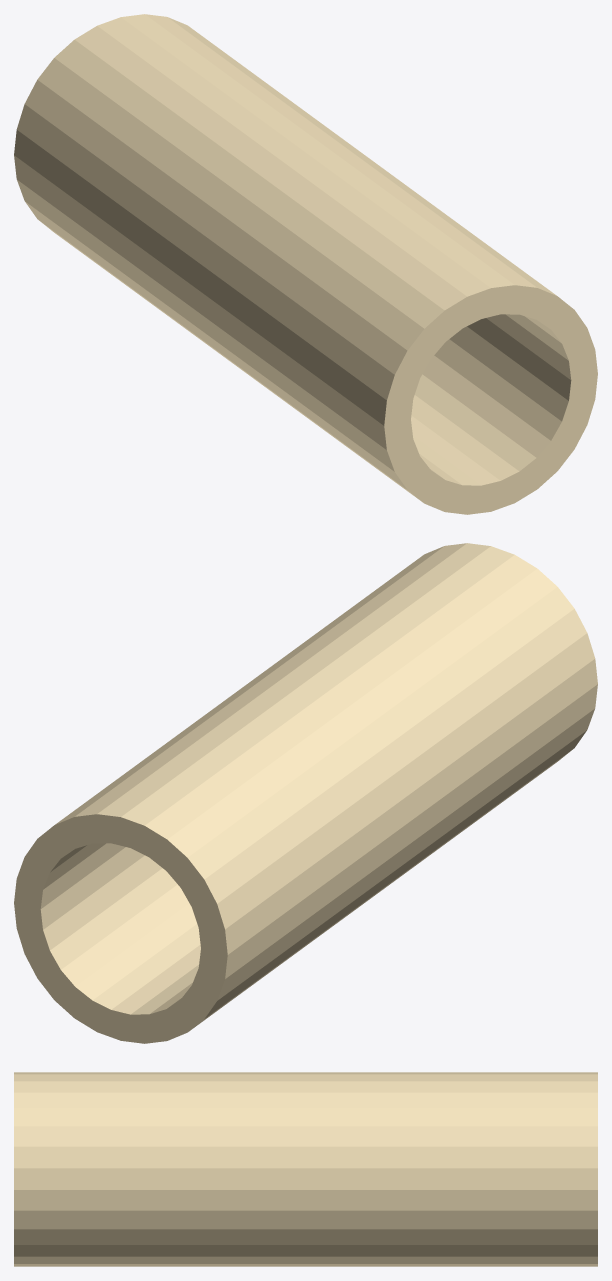
Rendered from caster_axle_bushing.glb.
3 renders of one model, top to bottom at view 1: azimuth 30°, elevation 25°; view 2: azimuth 150°, elevation 25°; view 3: azimuth 270°, elevation 25°, orthographic. The views are drawn at different scales.
Visible parts, largest first — view 1: Node1; view 2: Node1; view 3: Node1.
Part boxes in pixels (bbox=[...]): Node1: bbox=[14, 14, 597, 514]; Node1: bbox=[14, 543, 597, 1043]; Node1: bbox=[14, 1072, 597, 1266].
Bounding box in the file's own units: 25.4 × 25.4 × 76.2.
